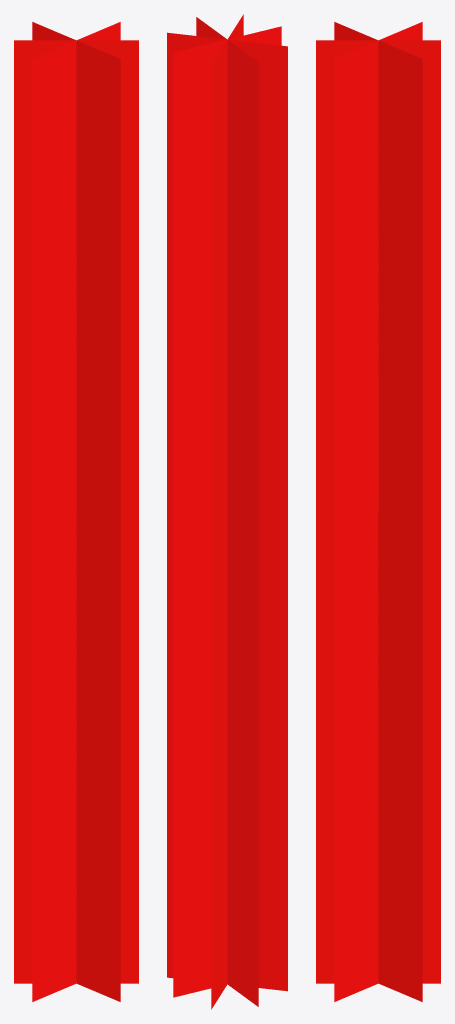
Rendered from columna_mision_roja.glb.
3 views of the same model, side by side, from view 1: azimuth 90°, elevation 25°; view 2: azimuth 210°, elevation 25°; view 3: azimuth 270°, elevation 25° (orthographic).
Parts seen in each view (by area): view 1: Columna de misión roja; view 2: Columna de misión roja; view 3: Columna de misión roja.
Part boxes in pixels (<box>): Columna de misión roja: <box>14,22,138,1001</box>; Columna de misión roja: <box>167,14,287,1009</box>; Columna de misión roja: <box>316,22,440,1001</box>.
Bounding box in the file's own units: 0.6 × 5 × 0.6.
Materials: 1 (1 with a texture image).
